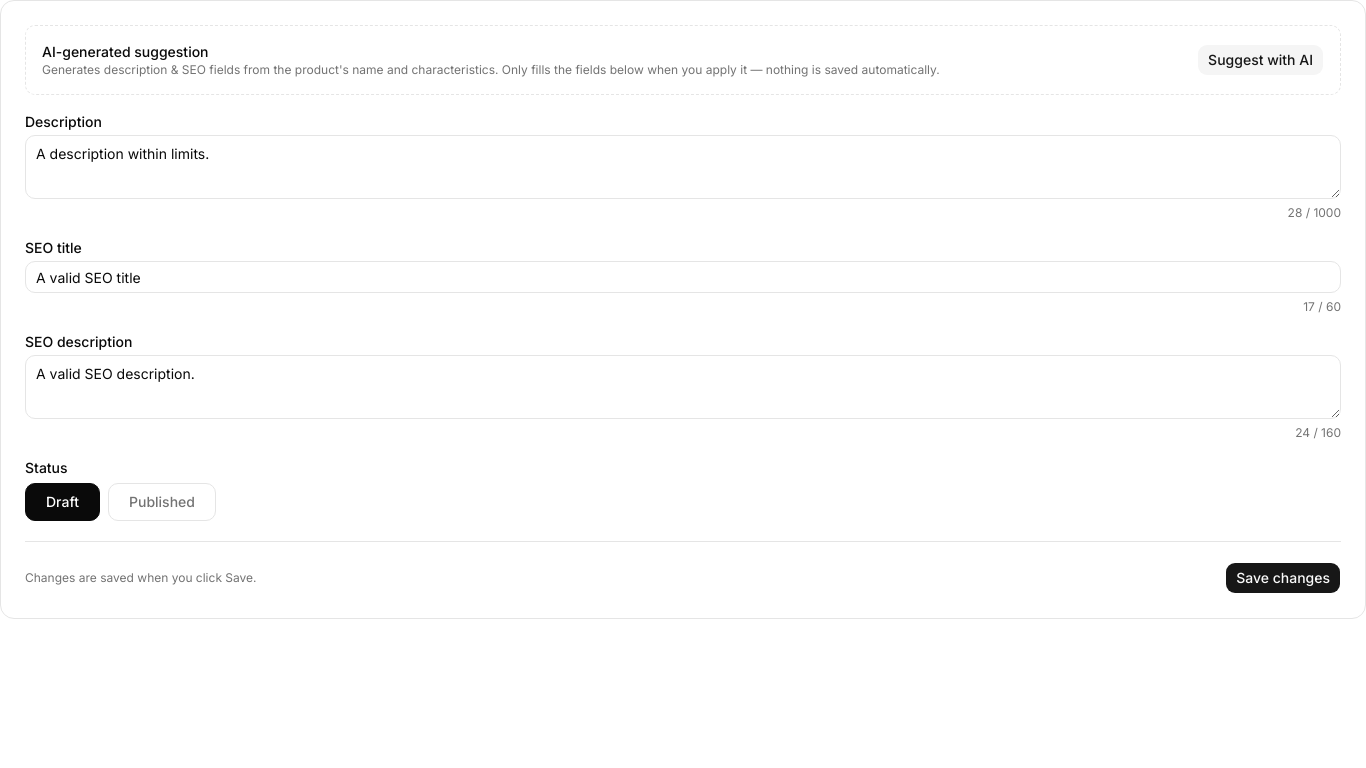
it: ProductEditorForm client-side validation › disables Save when the description is cleared
Clear the text box labelled "Description" at (683, 167), box [25,135,1341,199]
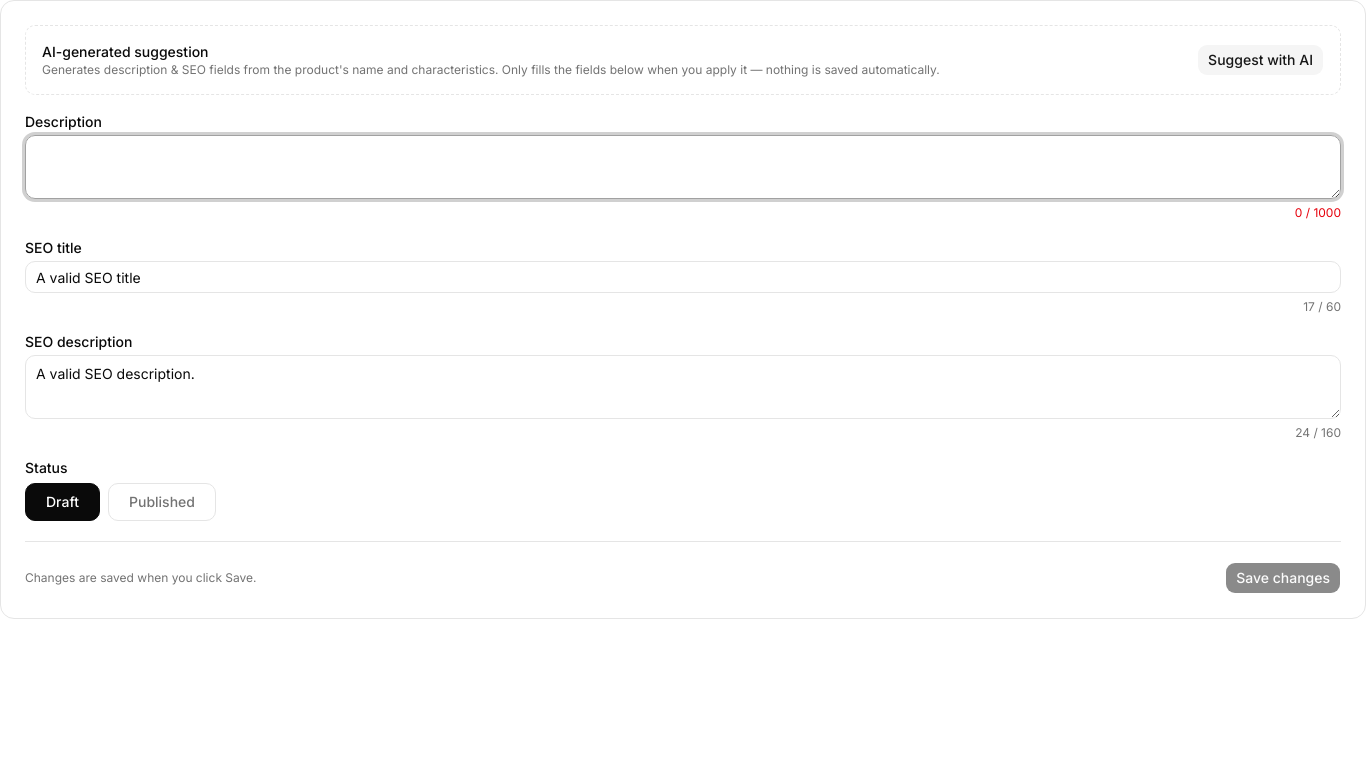
Expected: the button "Save changes" is disabled, [1225,562,1341,594]
